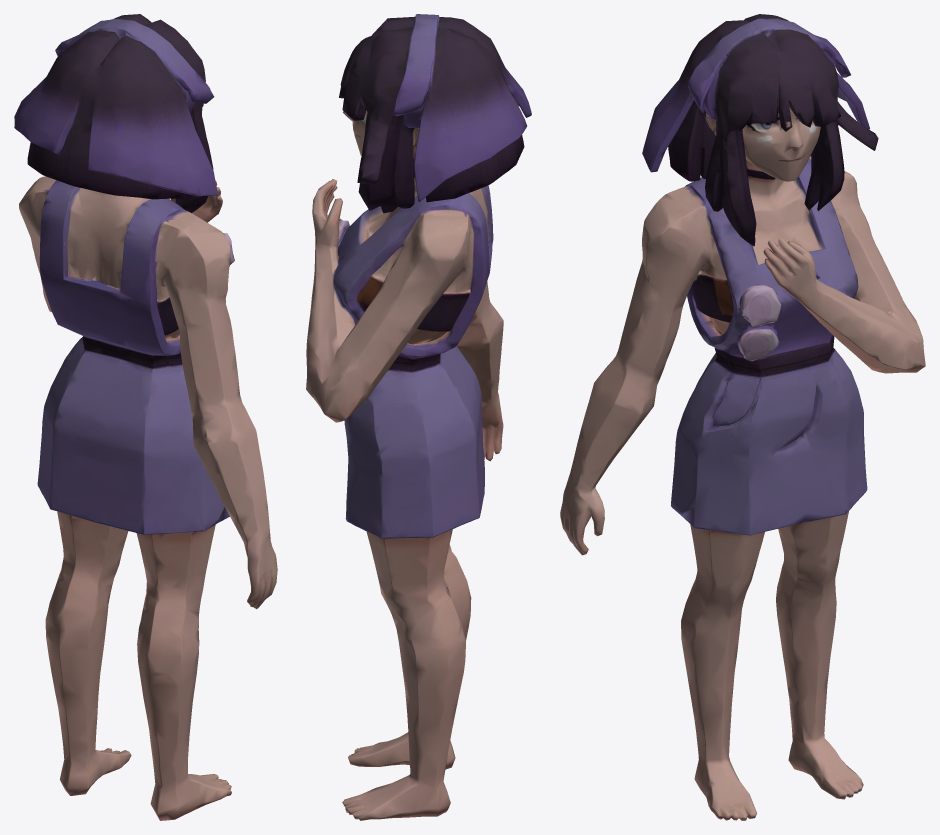
The model's file is supporter-026.glb.
3 renders of one model, left to right at view 1: azimuth 30°, elevation 25°; view 2: azimuth 150°, elevation 25°; view 3: azimuth 270°, elevation 25°, orthographic. The views are drawn at different scales.
Visible parts, largest first — view 1: tripo_node_6331bc1a-1516-4094-8a18-2e94b2656c63; view 2: tripo_node_6331bc1a-1516-4094-8a18-2e94b2656c63; view 3: tripo_node_6331bc1a-1516-4094-8a18-2e94b2656c63.
Part boxes in pixels (x1,y1,x2,y2): tripo_node_6331bc1a-1516-4094-8a18-2e94b2656c63: [14, 14, 277, 820]; tripo_node_6331bc1a-1516-4094-8a18-2e94b2656c63: [306, 14, 531, 820]; tripo_node_6331bc1a-1516-4094-8a18-2e94b2656c63: [560, 14, 925, 820].
Size of the model in its own units: 0.4361 by 1.65 by 0.7194.
1 material, 1 textured.
